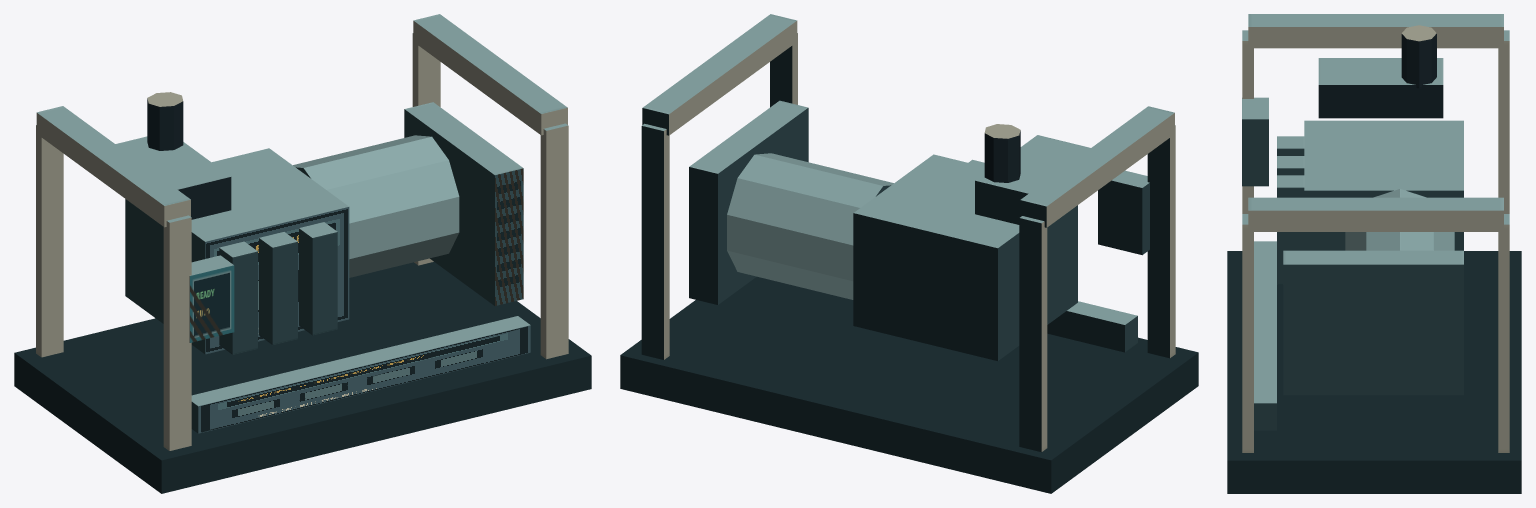
Rendered from generador_industrial_abierto.glb.
3 views of the same model, side by side, from view 1: azimuth 30°, elevation 25°; view 2: azimuth 150°, elevation 25°; view 3: azimuth 270°, elevation 25° (orthographic).
Visible parts, largest first — view 1: GENERADORES_PROPS; view 2: GENERADORES_PROPS; view 3: GENERADORES_PROPS.
Boxes of the visible parts, <box> form: GENERADORES_PROPS: <box>14,14,591,493</box>; GENERADORES_PROPS: <box>620,14,1198,493</box>; GENERADORES_PROPS: <box>1227,14,1521,493</box>.
Size of the model in its own units: 2.37 by 1.58 by 1.4.
Materials: 1 (1 with a texture image).
